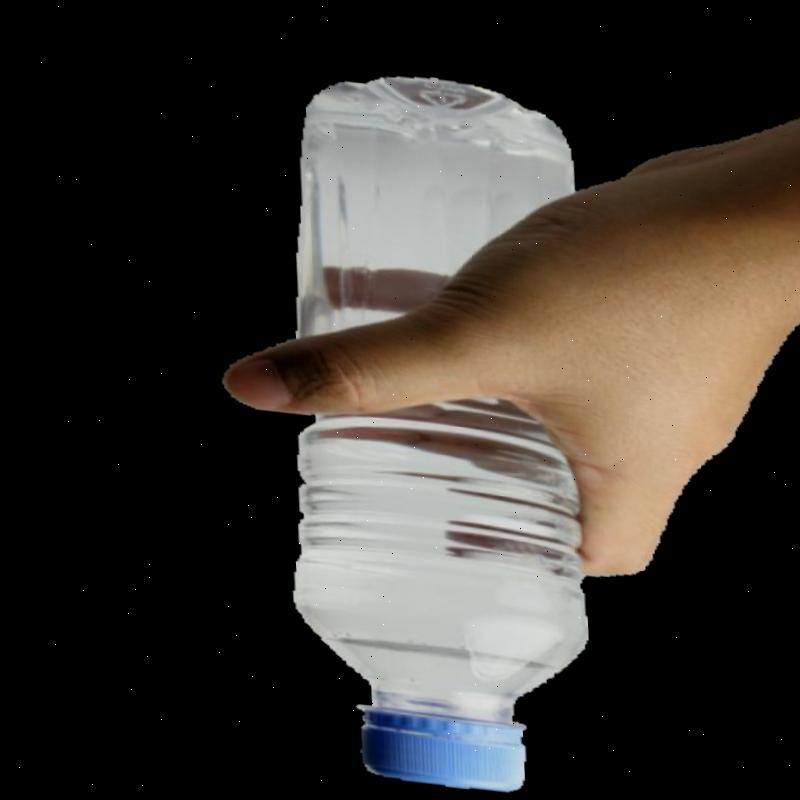botella: (232, 55, 623, 800)
